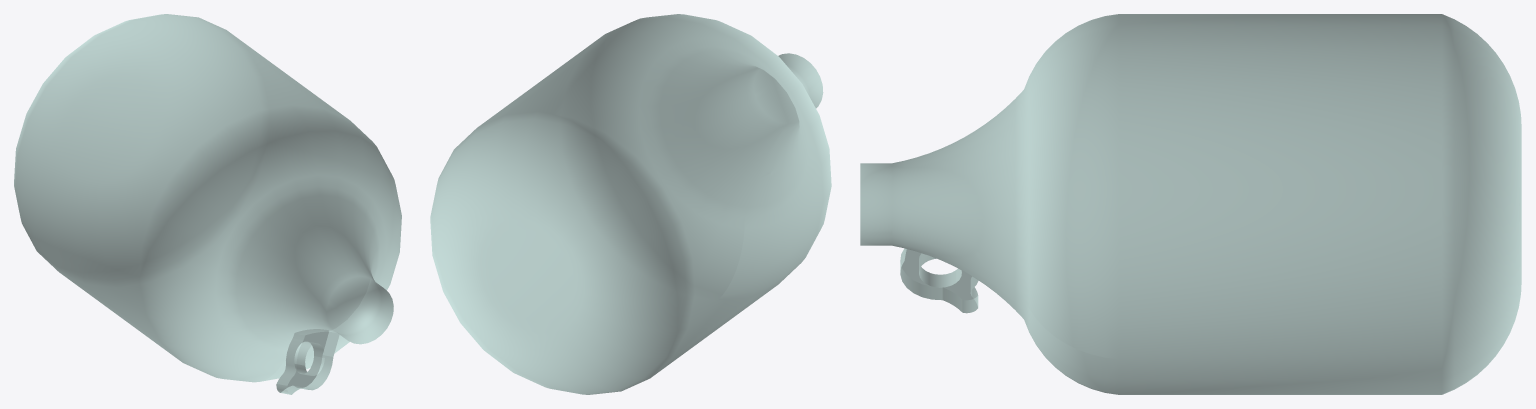
Rendered from model_scale.obj.
3 views of the same model, side by side, from view 1: azimuth 30°, elevation 25°; view 2: azimuth 150°, elevation 25°; view 3: azimuth 270°, elevation 25° (orthographic). The views are drawn at different scales.
Visible parts, largest first — view 1: mesh1_mesh1-geometry; view 2: mesh1_mesh1-geometry; view 3: mesh1_mesh1-geometry.
Boxes of the visible parts, x1=… form: mesh1_mesh1-geometry: x1=14, y1=14, x2=401, y2=394; mesh1_mesh1-geometry: x1=430, y1=14, x2=831, y2=394; mesh1_mesh1-geometry: x1=860, y1=14, x2=1521, y2=394.
Size of the model in its own units: 0.1204 by 0.1204 by 0.2083.
